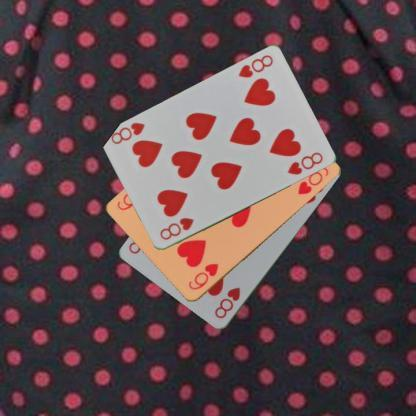6h: (186, 261, 220, 292)
8h: (235, 52, 275, 80), (212, 285, 243, 321), (157, 214, 195, 242)
